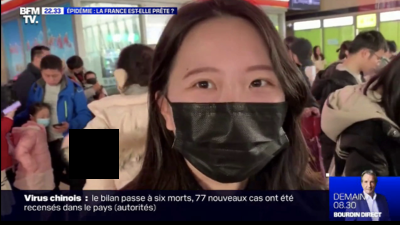with_mask: (170, 61, 288, 183), (36, 111, 52, 128), (86, 74, 98, 85)
without_mask: (364, 46, 385, 76), (41, 69, 63, 85)
